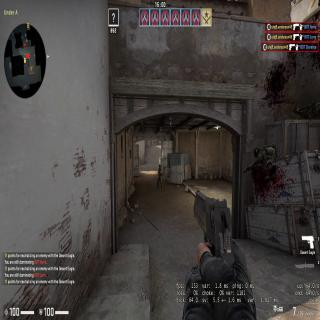CT-Body: (156, 164, 162, 186)
CT-Head: (158, 164, 160, 168)
